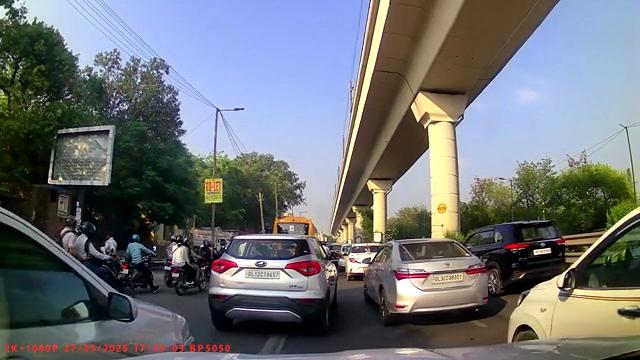motorcycle_with_helmet: (120, 233, 158, 295)
passenger_with_helmet: (171, 235, 210, 295)
